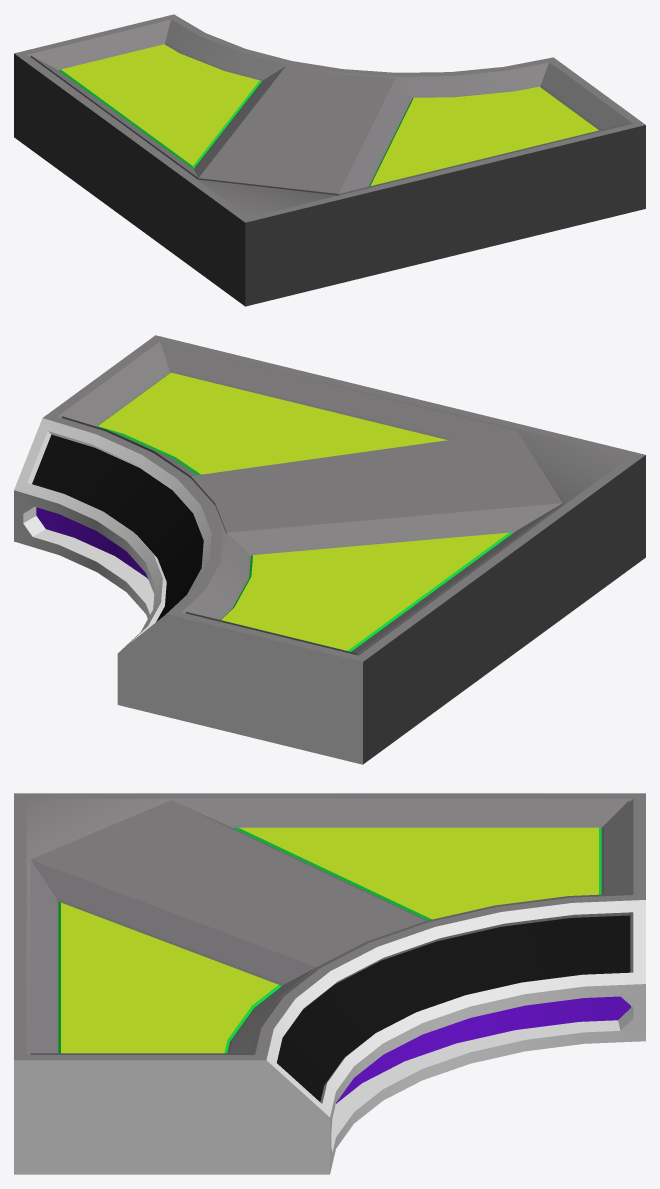
File: PlatformBorder00_5InteriorCorner.fbx
3 renders of one model, top to bottom at view 1: azimuth 30°, elevation 25°; view 2: azimuth 150°, elevation 25°; view 3: azimuth 270°, elevation 25°, orthographic. The views are drawn at different scales.
Parts seen in each view (by area): view 1: PlatformBorder00_5InteriorCorner; view 2: PlatformBorder00_5InteriorCorner; view 3: PlatformBorder00_5InteriorCorner.
Boxes of the visible parts, x1,y1,x2,y2 form: PlatformBorder00_5InteriorCorner: [14, 14, 645, 306]; PlatformBorder00_5InteriorCorner: [14, 335, 645, 764]; PlatformBorder00_5InteriorCorner: [14, 793, 645, 1174].
Size of the model in its own units: 500 by 100 by 500.
